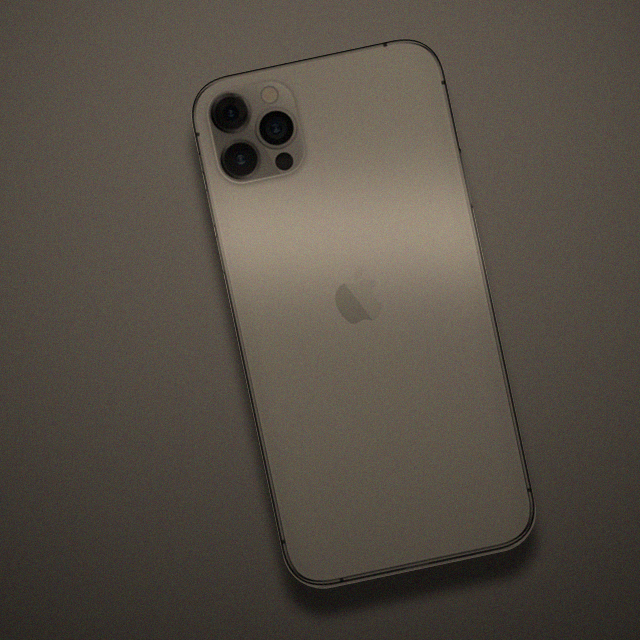iphone_12pro_silver: (167, 21, 560, 619), (202, 80, 320, 189)
